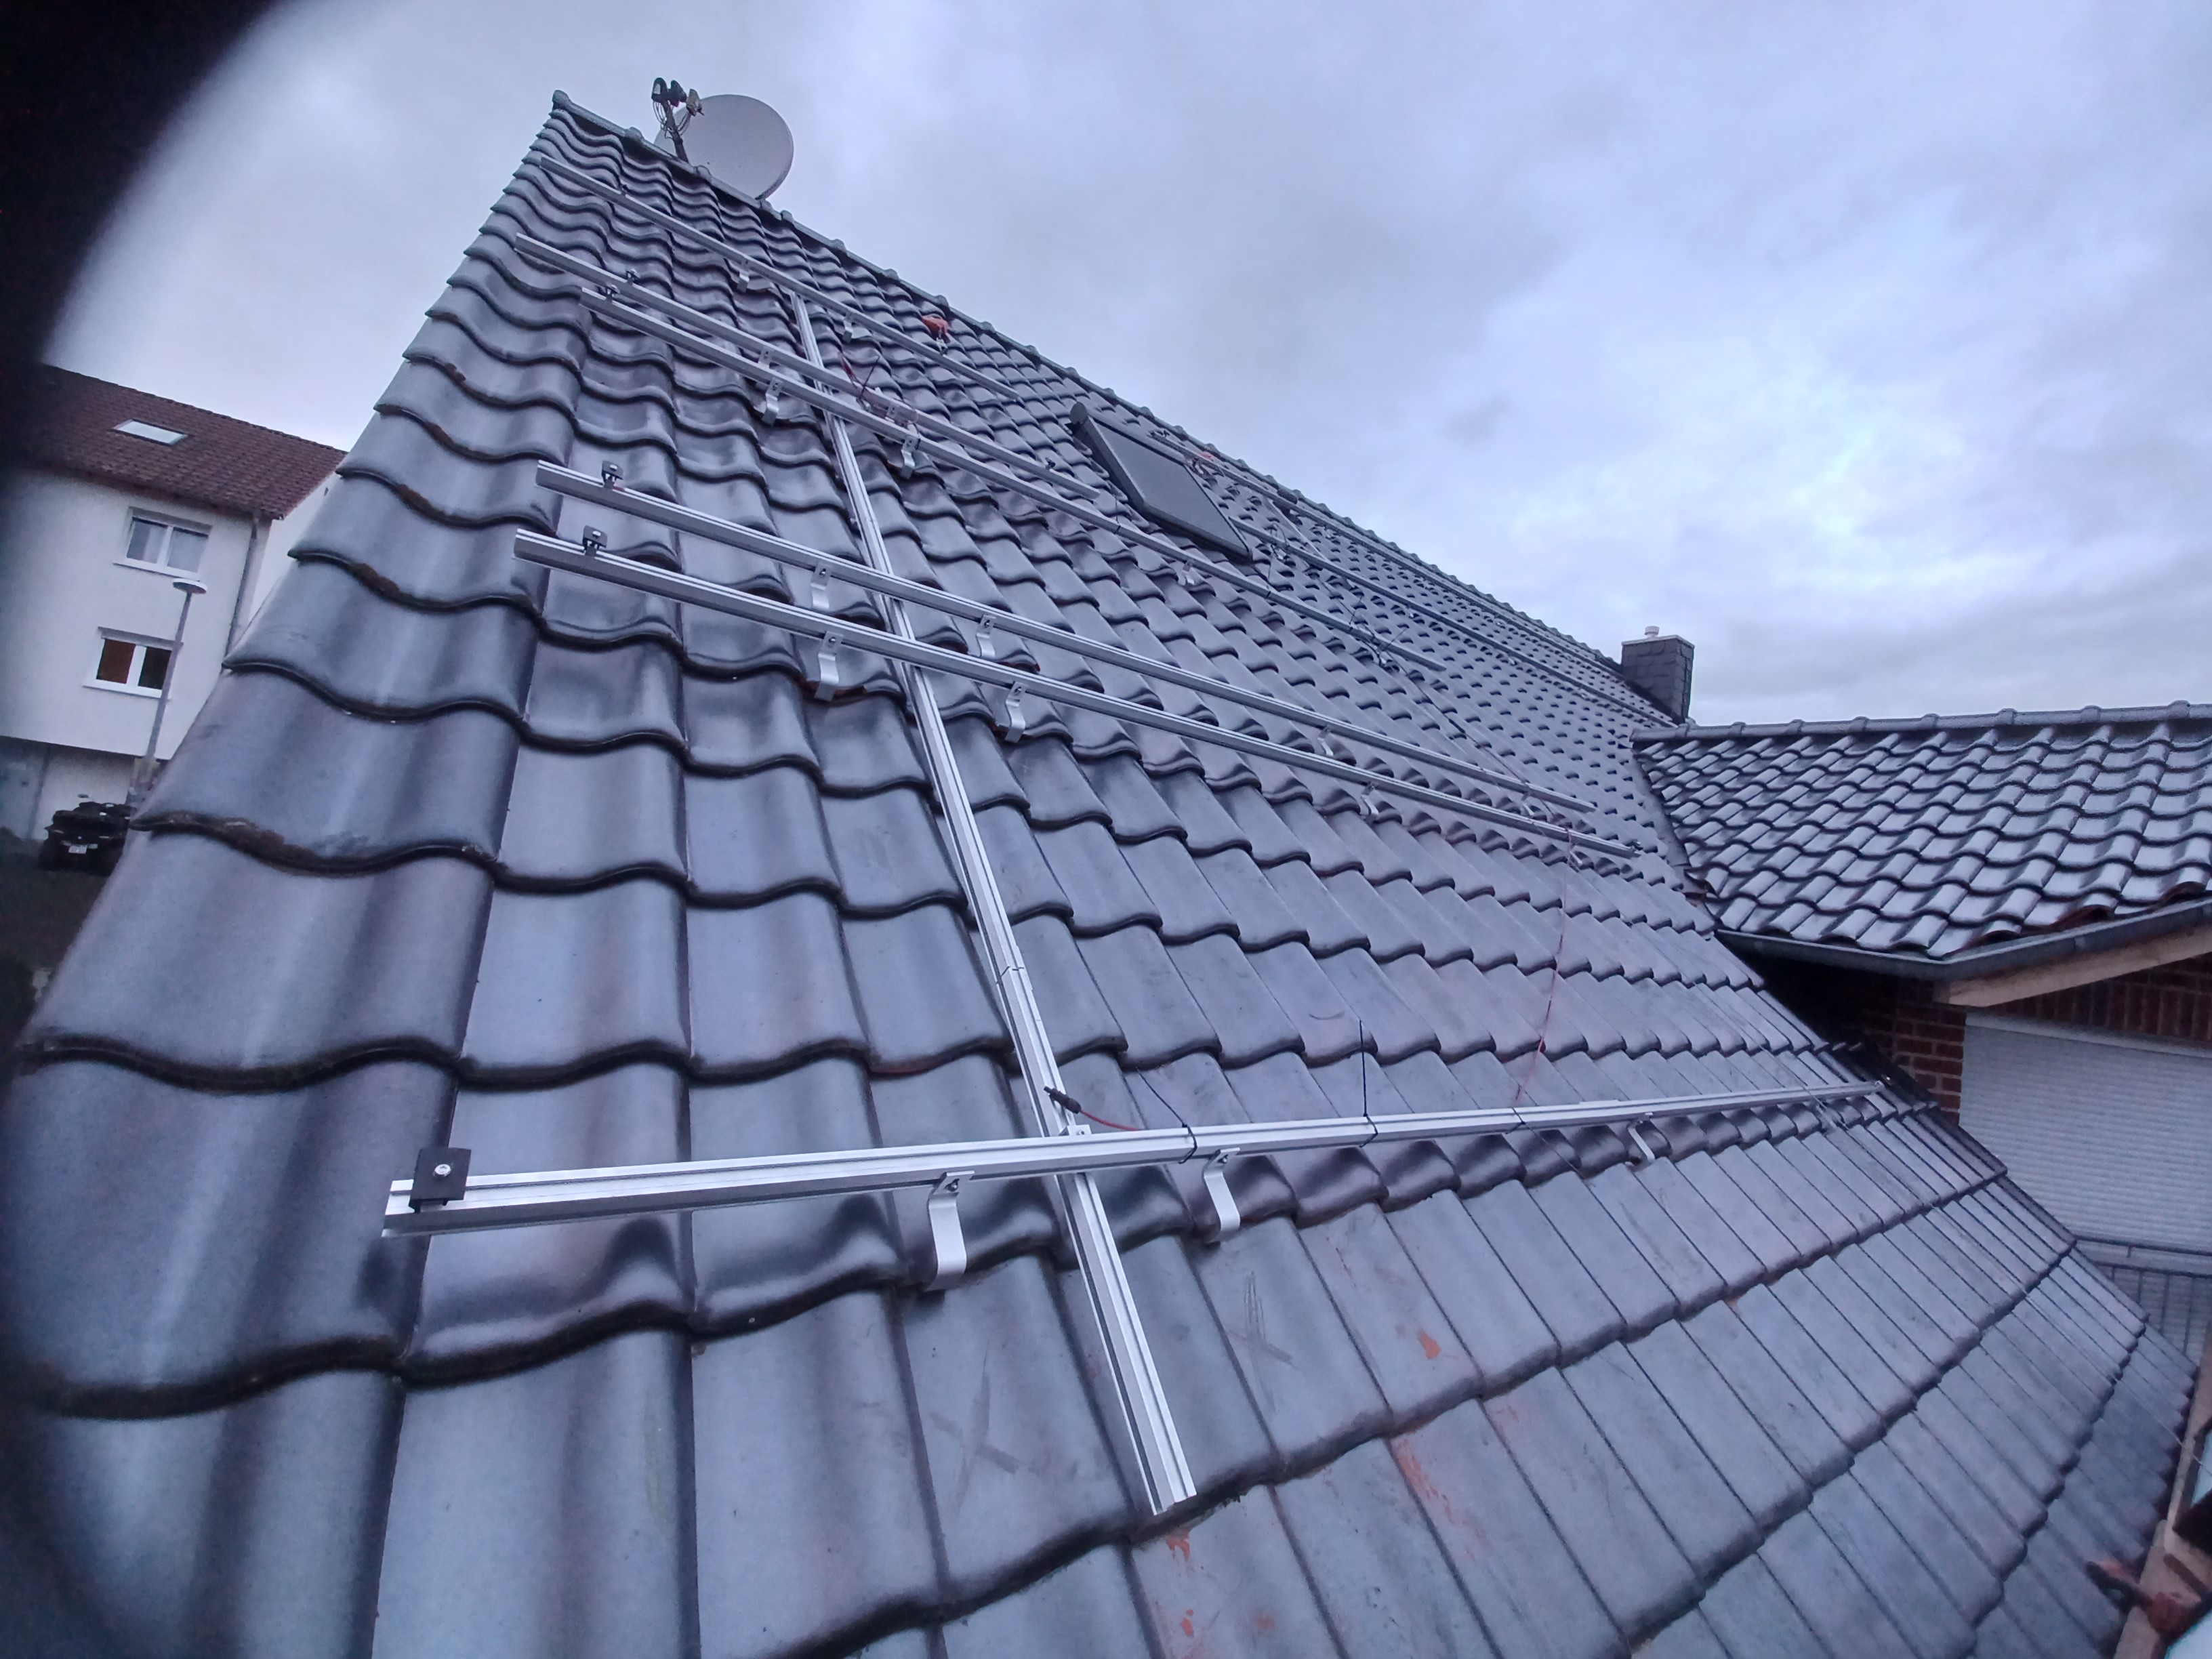hook: (920, 1171, 975, 1291), (1200, 1147, 1240, 1244), (813, 631, 845, 702), (1625, 1112, 1655, 1171), (1000, 681, 1028, 742), (761, 376, 784, 427), (810, 563, 831, 613), (975, 615, 996, 662), (754, 345, 775, 390), (895, 436, 916, 479), (1815, 1096, 1838, 1136), (1360, 781, 1379, 823), (883, 403, 900, 444), (1317, 725, 1334, 758), (1568, 838, 1583, 870), (1181, 558, 1195, 593), (737, 258, 749, 293), (841, 308, 853, 343), (1521, 789, 1534, 819), (1376, 641, 1386, 667), (1273, 542, 1284, 561), (1195, 458, 1204, 476), (1406, 603, 1414, 619), (1507, 650, 1515, 666), (1576, 683, 1585, 699), (1324, 525, 1331, 538)
